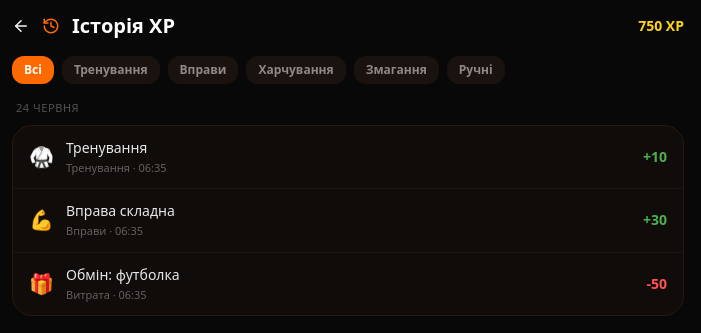
Test: XPHistoryPage › filters to attendance transactions only
The width and height of the screenshot is (701, 333).
Click the button "Тренування": point(111, 70) 62,56 -> 160,84
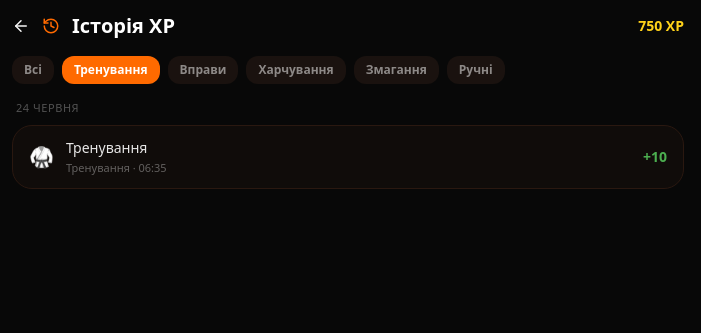
Expected: the text "Вправа складна" is gone
